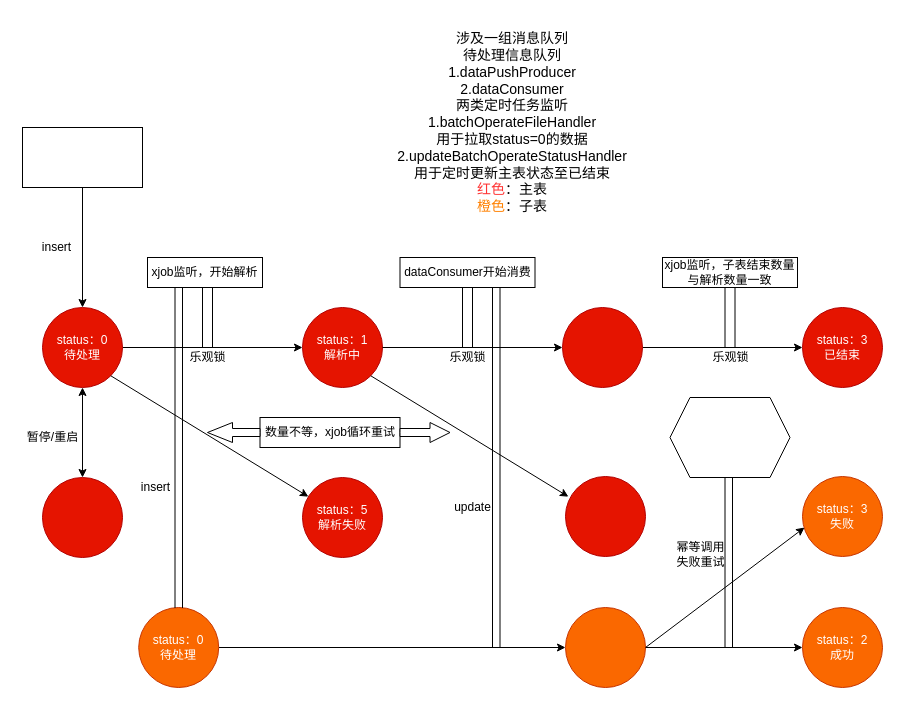
This 900x705 diagram has some shape labels left out. The centre of each missing label's shape, as x and y in pixels:
"rpc invole" goes at pixel 729 437.
"status：1 处理中" goes at pixel 605 647.
"status：2 执行中" goes at pixel 602 347.
"status：4 暂停中" goes at pixel 82 517.
"status：6 执行失败" goes at pixel 605 516.
"文件上传接口，入主表持久化" goes at pixel 82 157.
